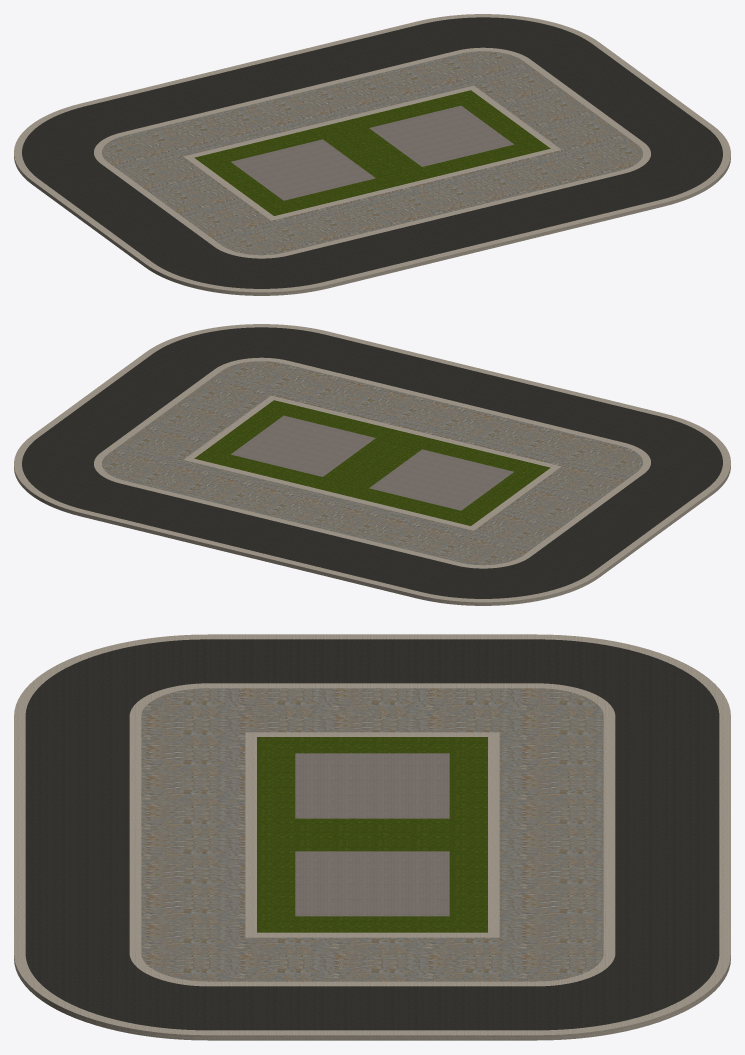
The picture shows the model from 3 angles, top to bottom: view 1: azimuth 30°, elevation 25°; view 2: azimuth 150°, elevation 25°; view 3: azimuth 270°, elevation 25°; orthographic projection. The views are drawn at different scales.
Visible parts, largest first — view 1: 2__Model_-_2_dwg; view 2: 2__Model_-_2_dwg; view 3: 2__Model_-_2_dwg.
Part boxes in pixels (left/top/right/bottom): 2__Model_-_2_dwg: left=14, top=14, right=730, bottom=295; 2__Model_-_2_dwg: left=14, top=324, right=730, bottom=605; 2__Model_-_2_dwg: left=14, top=634, right=730, bottom=1040.
Size of the model in its own units: 24.6 by 0.15 by 18.6.
5 materials, 5 textured.
